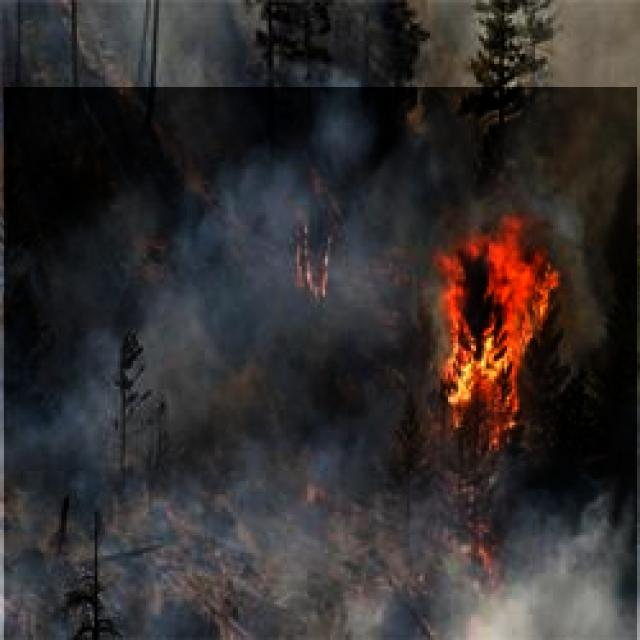Fire: (439, 234, 546, 439)
Smoke: (4, 87, 637, 640)
